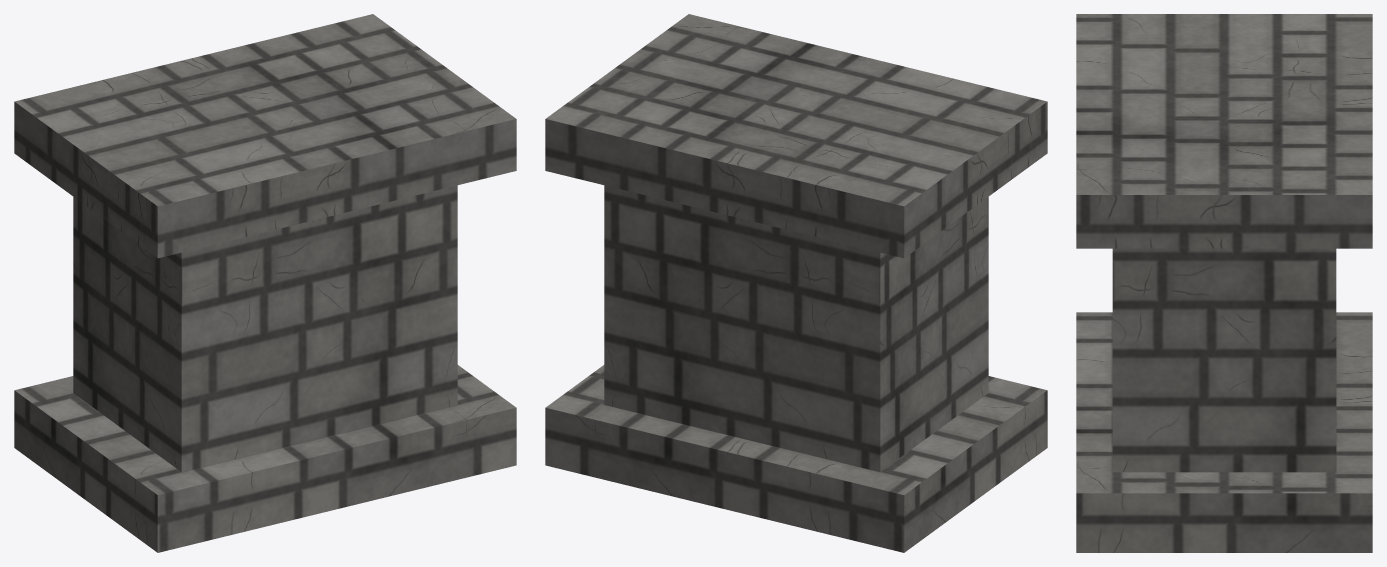
File: lore.glb
The picture shows the model from 3 angles, left to right: view 1: azimuth 30°, elevation 25°; view 2: azimuth 150°, elevation 25°; view 3: azimuth 270°, elevation 25°; orthographic projection. The views are drawn at different scales.
Parts seen in each view (by area): view 1: lore; view 2: lore; view 3: lore.
Part boxes in pixels (x1,y1,x2,y2): lore: (14, 14, 516, 552); lore: (545, 14, 1047, 552); lore: (1076, 14, 1372, 552).
Bounding box in the file's own units: 1.3 × 1.2 × 0.9.
Materials: 1 (1 with a texture image).
